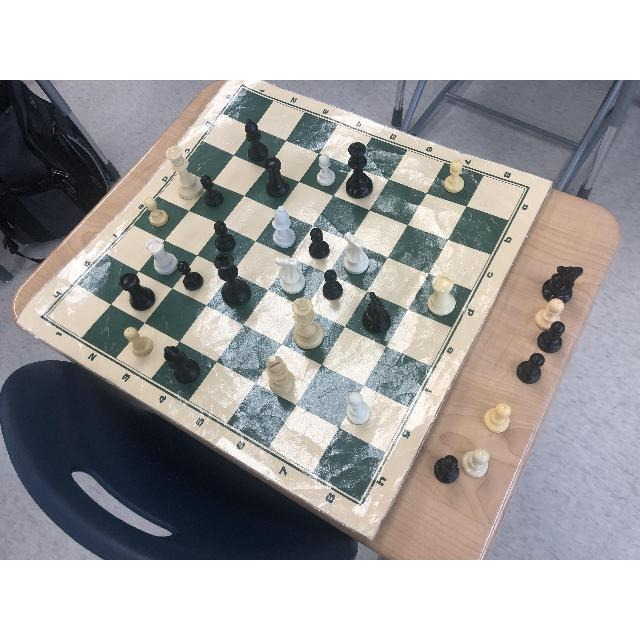black-bishop: (164, 346, 200, 382), (245, 118, 269, 161)
black-king: (215, 252, 251, 306)
black-knight: (362, 291, 390, 333)
black-pawn: (177, 260, 203, 291), (200, 175, 223, 207), (214, 221, 236, 251), (310, 227, 330, 258), (324, 270, 342, 300)
black-queen: (345, 141, 372, 198)
black-rook: (120, 273, 154, 311), (265, 157, 289, 196)
white-bishop: (267, 355, 295, 395), (272, 206, 296, 248)
white-king: (292, 298, 324, 350)
white-knight: (275, 256, 305, 293), (343, 232, 368, 274)
white-pawn: (125, 327, 153, 357), (346, 392, 370, 424), (144, 197, 168, 227), (316, 154, 336, 186), (444, 160, 464, 192)
white-queen: (166, 146, 204, 199)
white-rook: (145, 237, 179, 274), (428, 275, 456, 315)
